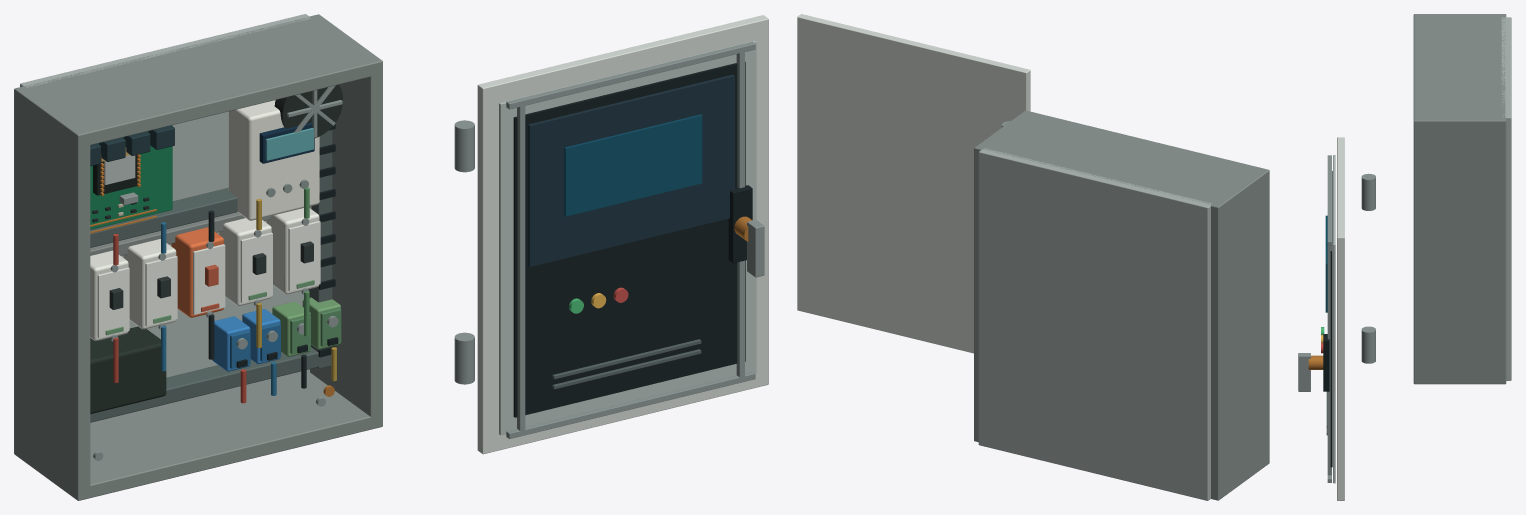
File: welos-controller-detail.glb
3 views of the same model, side by side, from view 1: azimuth 30°, elevation 25°; view 2: azimuth 150°, elevation 25°; view 3: azimuth 270°, elevation 25° (orthographic). The views are drawn at different scales.
Parts seen in each view (by area): view 1: C01 Door gasket, C01 Left enclosure rail, C01 Top enclosure rail, C01 Exploded access door, C01 Smoked inspection window, C01 Bottom enclosure rail, C01 Right enclosure rail, C01 Door inset panel, C01 Cabinet backplate, C01 Window internal display, C04 Energy meter, C06 Communications gateway (+27 smaller); view 2: C01 Cabinet backplate, C01 Exploded access door, C01 Left enclosure rail, C01 Top enclosure rail, C01 Right enclosure rail; view 3: C01 Right enclosure rail, C01 Top enclosure rail, C01 Exploded access door, C01 Cabinet backplate, C01 Door inset panel, C01 Door vertical trim 568, C01 Door gasket, C01 Bottom enclosure rail, C01 Hinge barrel 95, C01 Hinge barrel 350, C01 Door handle grip, C01 Door horizontal trim 418 (+3 smaller).
Boxes of the visible parts, left/top/right/bottom form: C01 Door gasket: left=513, top=62, right=745, bottom=417; C01 Left enclosure rail: left=14, top=86, right=90, bottom=500; C01 Top enclosure rail: left=14, top=16, right=381, bottom=146; C01 Exploded access door: left=477, top=15, right=768, bottom=454; C01 Smoked inspection window: left=528, top=74, right=734, bottom=266; C01 Bottom enclosure rail: left=14, top=372, right=382, bottom=500; C01 Right enclosure rail: left=308, top=14, right=382, bottom=429; C01 Door inset panel: left=499, top=40, right=756, bottom=435; C01 Cabinet backplate: left=20, top=14, right=309, bottom=425; C01 Window internal display: left=564, top=114, right=702, bottom=216; C04 Energy meter: left=228, top=100, right=319, bottom=220; C06 Communications gateway: left=90, top=326, right=166, bottom=413; C01 Cabinet backplate: left=978, top=148, right=1212, bottom=500; C01 Exploded access door: left=797, top=14, right=1030, bottom=353; C01 Left enclosure rail: left=1210, top=167, right=1269, bottom=500; C01 Top enclosure rail: left=974, top=111, right=1269, bottom=216; C01 Right enclosure rail: left=974, top=110, right=1033, bottom=441; C01 Right enclosure rail: left=1413, top=117, right=1506, bottom=384; C01 Top enclosure rail: left=1413, top=14, right=1506, bottom=129; C01 Exploded access door: left=1337, top=137, right=1344, bottom=500; C01 Cabinet backplate: left=1501, top=17, right=1511, bottom=380; C01 Door inset panel: left=1333, top=155, right=1335, bottom=483; C01 Door vertical trim 568: left=1327, top=246, right=1331, bottom=475; C01 Door gasket: left=1330, top=171, right=1332, bottom=467; C01 Bottom enclosure rail: left=1413, top=375, right=1506, bottom=383; C01 Hinge barrel 95: left=1361, top=326, right=1375, bottom=363; C01 Hinge barrel 350: left=1361, top=173, right=1375, bottom=210; C01 Door handle grip: left=1298, top=353, right=1310, bottom=391; C01 Door horizontal trim 418: left=1327, top=155, right=1331, bottom=245.
Bounding box in the file's own units: 802 × 440 × 323.
